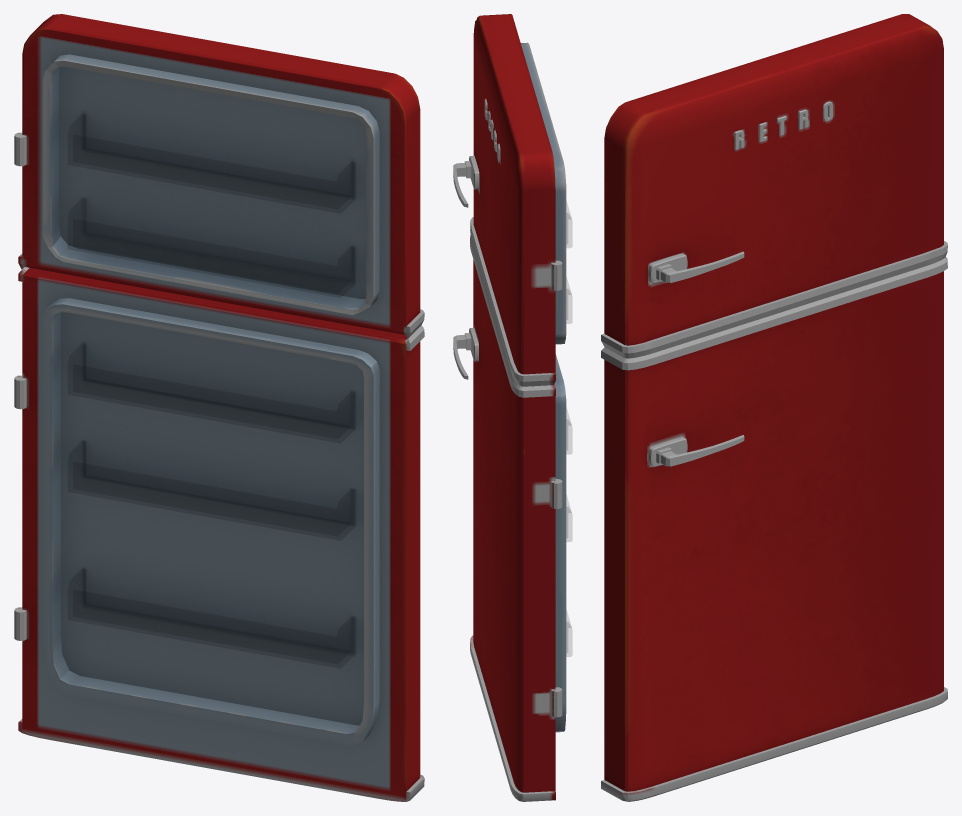
The model's file is door.glb.
3 views of the same model, side by side, from view 1: azimuth 30°, elevation 25°; view 2: azimuth 150°, elevation 25°; view 3: azimuth 270°, elevation 25° (orthographic). The views are drawn at different scales.
Parts seen in each view (by area): view 1: door_bot_66, door_top_67, storage3_78, storage1_76, storage5_80, storage4_79, storage2_77; view 2: door_bot_66, door_top_67, h1_69, h1 1_72, t2 1_52, t2_49, t12_55, retro_74, h2_70; view 3: door_bot_66, door_top_67, h1 1_72, h1_69, retro_74.
Part boxes in pixels (x1,y1,x2,y2): door_bot_66: (18,267,424,801); door_top_67: (18,14,424,338); storage3_78: (68,343,354,442); storage1_76: (68,569,354,667); storage5_80: (68,114,354,213); storage4_79: (68,198,354,297); storage2_77: (68,441,354,540); door_bot_66: (470,235,566,801); door_top_67: (470,14,566,386); h1_69: (453,161,471,207); h1 1_72: (453,333,471,379); t2 1_52: (551,260,562,290); t2_49: (551,687,562,717); t12_55: (551,479,562,509); retro_74: (484,99,500,162); h2_70: (469,156,479,189); door_bot_66: (601,257,947,801); door_top_67: (601,14,947,358); h1 1_72: (656,435,744,466); h1_69: (656,251,744,282); retro_74: (734,101,832,150).
Bounding box in the file's own units: 0.557 × 1.5 × 0.6885.
2 materials, 1 textured.
